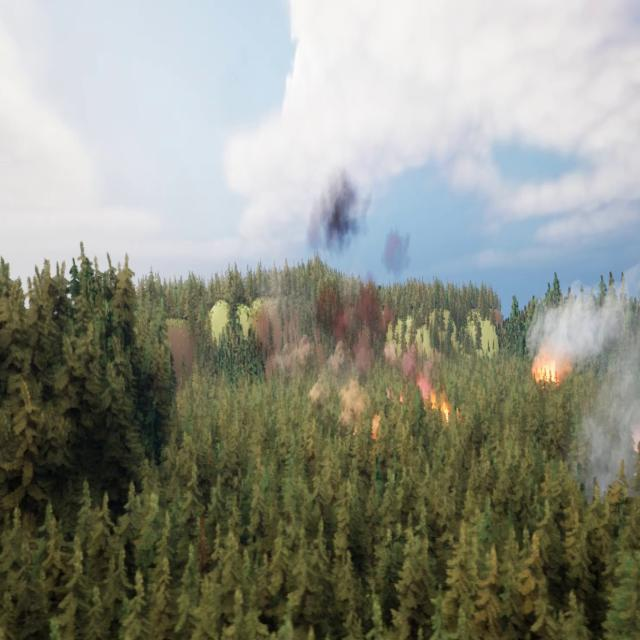fire: (421, 370, 462, 430), (532, 354, 572, 387)
smoke: (306, 150, 412, 380), (530, 282, 640, 499)
